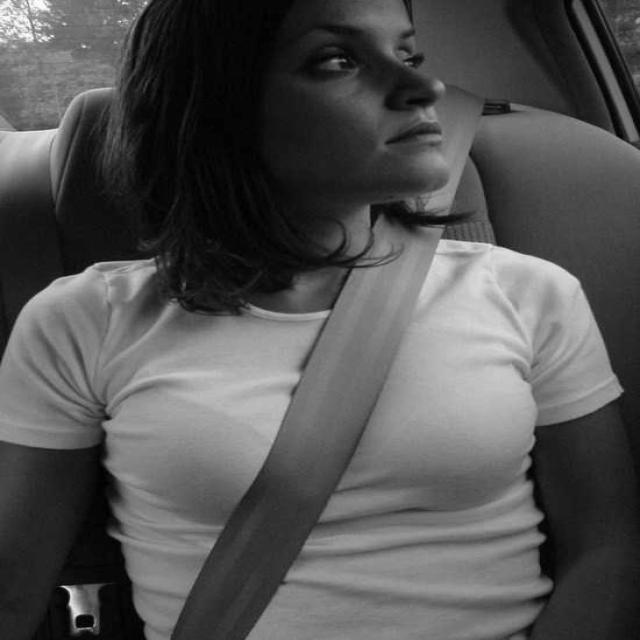Seatbelt: (167, 211, 436, 638)
